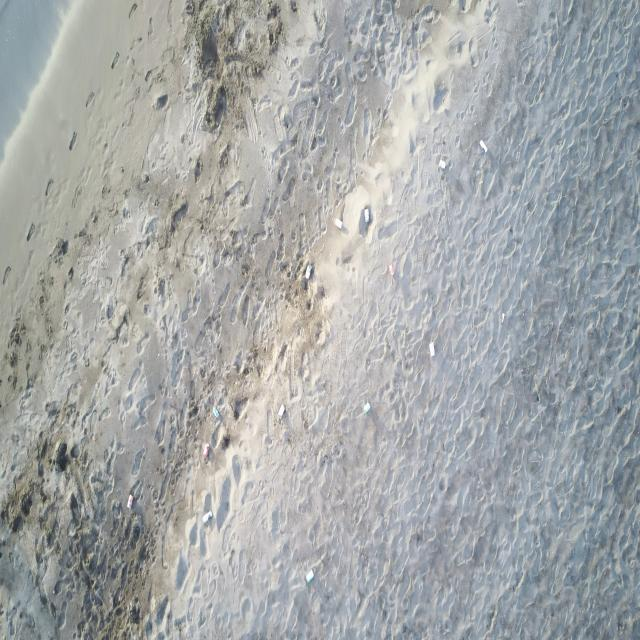tin-and-aluminum-cans: (202, 510, 213, 523), (428, 341, 436, 358), (126, 493, 134, 509), (278, 404, 286, 420), (480, 138, 489, 152), (306, 569, 314, 584), (305, 263, 312, 280), (212, 406, 220, 419), (388, 263, 395, 277), (363, 402, 371, 414), (364, 208, 370, 224), (203, 442, 209, 458), (335, 218, 343, 229), (439, 158, 446, 170)
